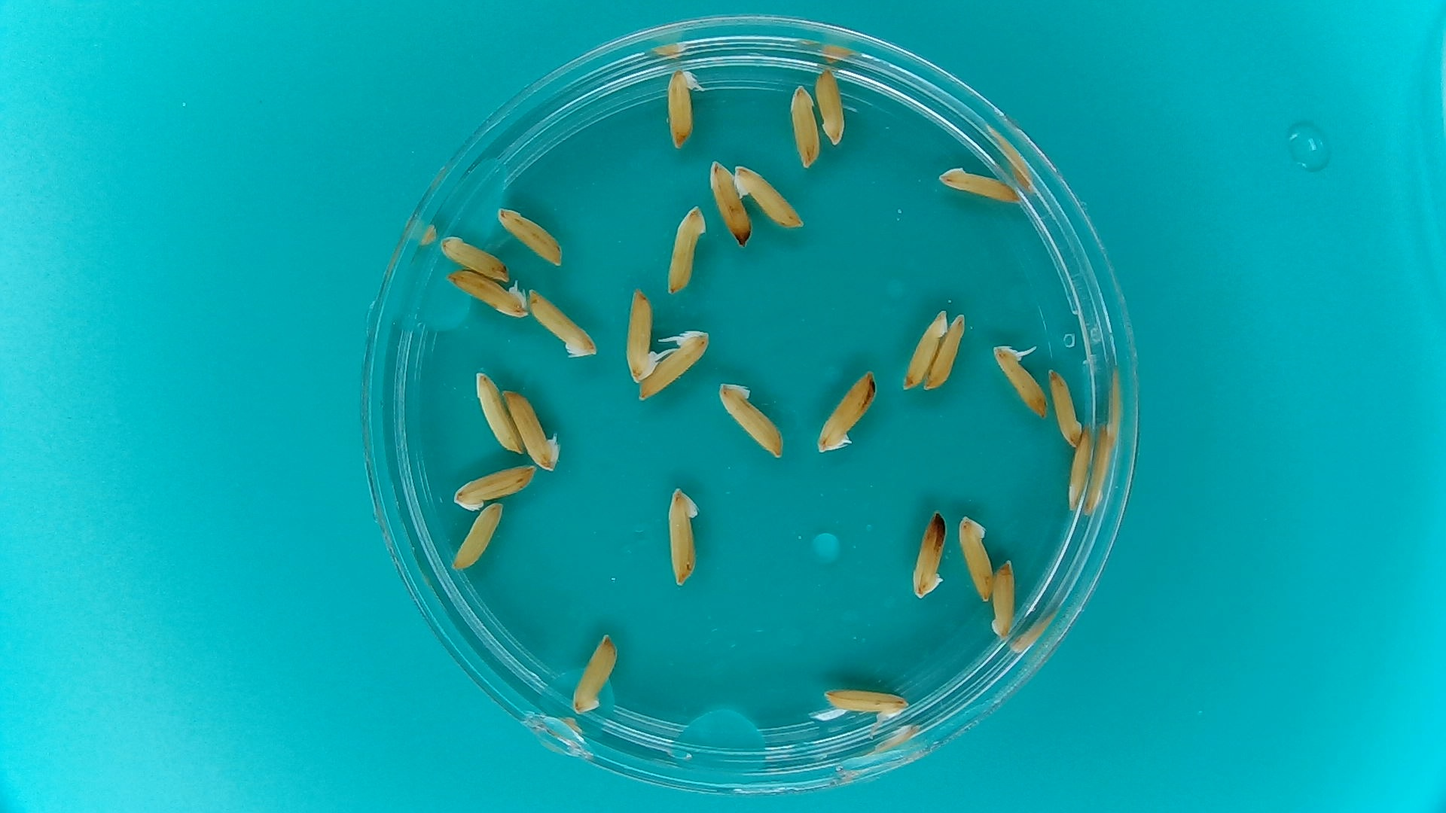no: (497, 376, 567, 475), (715, 376, 791, 464), (810, 367, 881, 461), (465, 364, 532, 461), (731, 153, 807, 236), (440, 500, 523, 576), (695, 160, 761, 255), (523, 285, 602, 361), (920, 306, 978, 404), (441, 265, 532, 326), (662, 481, 712, 590), (492, 202, 569, 271), (660, 202, 711, 302), (933, 160, 1028, 213), (905, 509, 953, 610), (448, 460, 540, 511), (896, 306, 949, 394), (563, 632, 618, 716), (780, 82, 826, 179), (1053, 423, 1098, 519), (438, 233, 511, 291), (1041, 364, 1088, 454), (956, 515, 999, 607), (985, 558, 1030, 643), (811, 68, 854, 156)
yes: (638, 327, 710, 397), (990, 343, 1048, 419), (625, 290, 658, 382), (662, 64, 697, 148), (823, 687, 909, 720)
